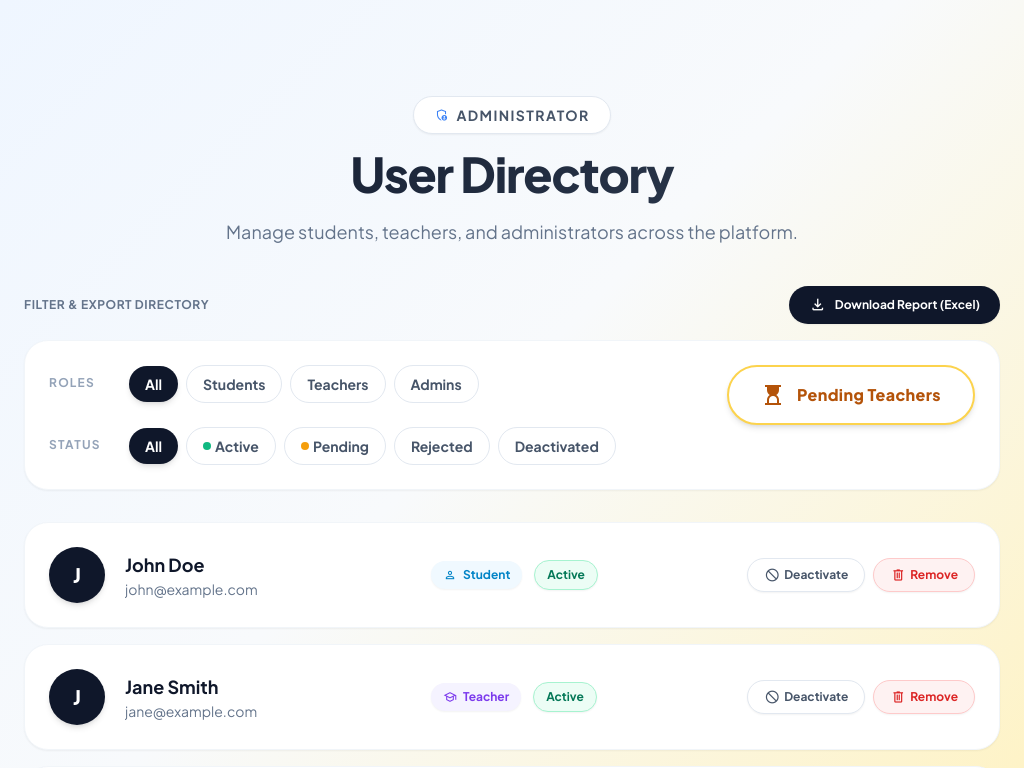
AdminUsersPage › clicking Delete asks for confirmation before sending the DELETE request
The width and height of the screenshot is (1024, 768).
Expected: the heading "John Doe" is shown, [125,553,204,576]
Click the button "Remove" in the row of "john@example.com": [924, 575] box [873,558,975,592]
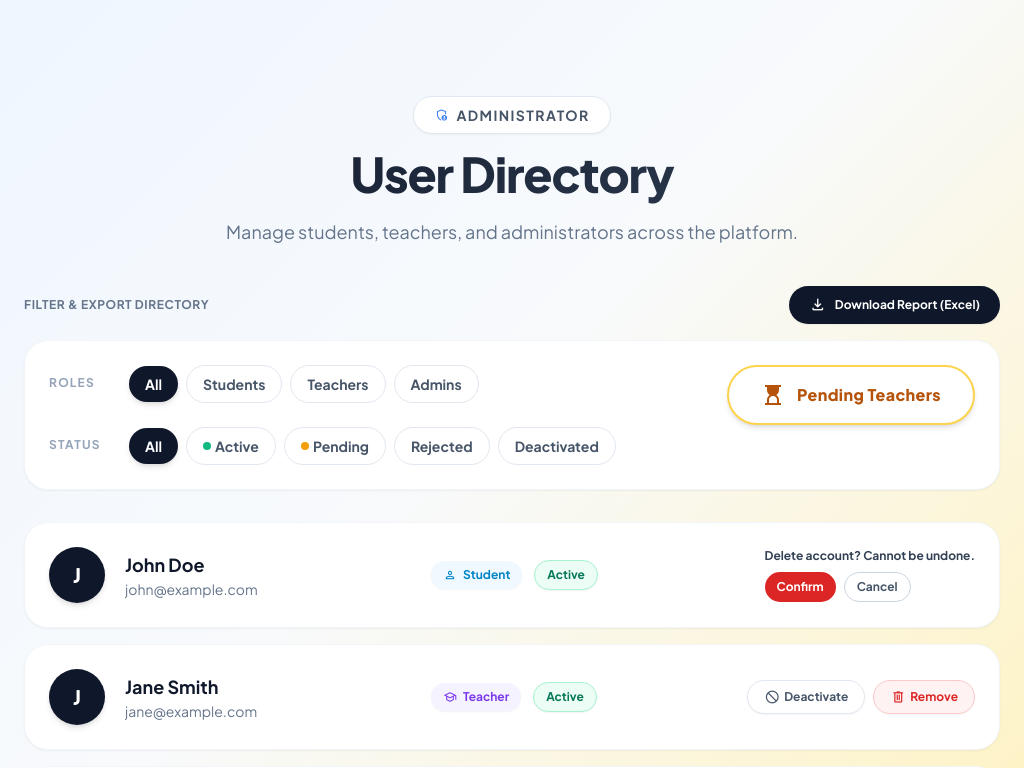
Result: the text "Delete account? Cannot be undone." is shown at [764,548,975,564]
